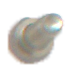Standing-Screw: (0, 10, 67, 72)
